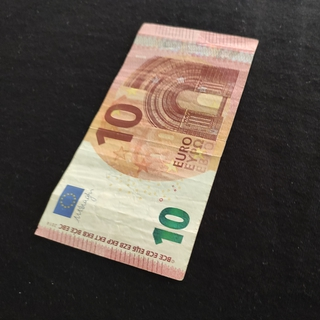10EUROFront: (34, 21, 259, 281)
